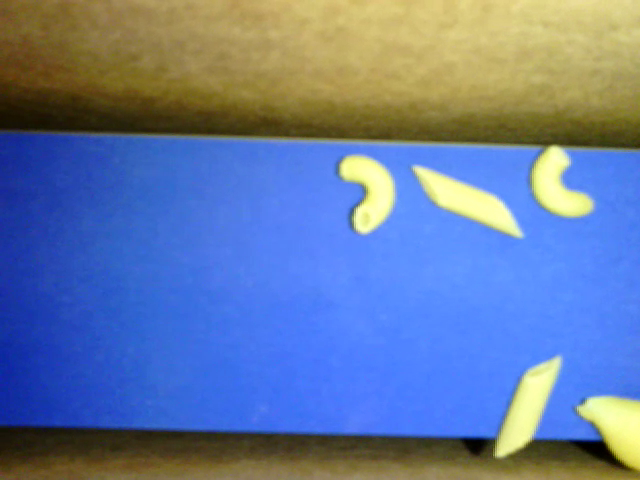elbow: (528, 143, 594, 219), (339, 153, 397, 235)
penne: (411, 163, 520, 237), (493, 354, 561, 458)
shell: (574, 394, 639, 470)
